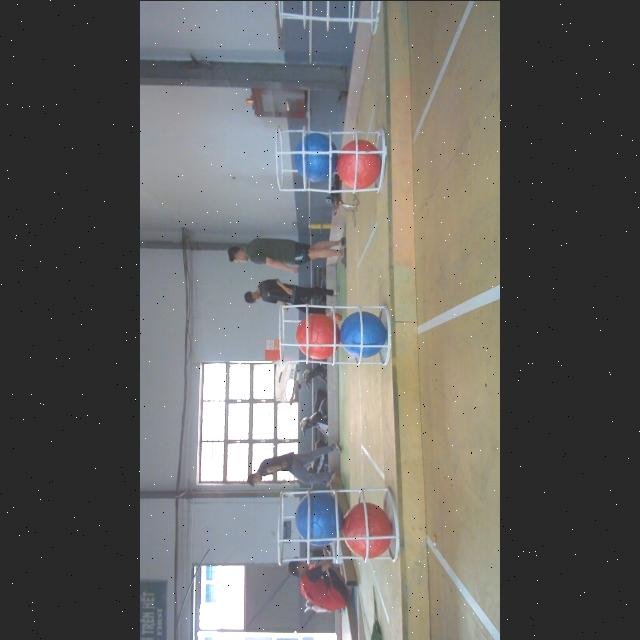B: (294, 490, 344, 544), (340, 310, 388, 356), (294, 134, 334, 182)
R: (344, 499, 392, 557), (337, 139, 383, 187), (295, 312, 339, 358)
